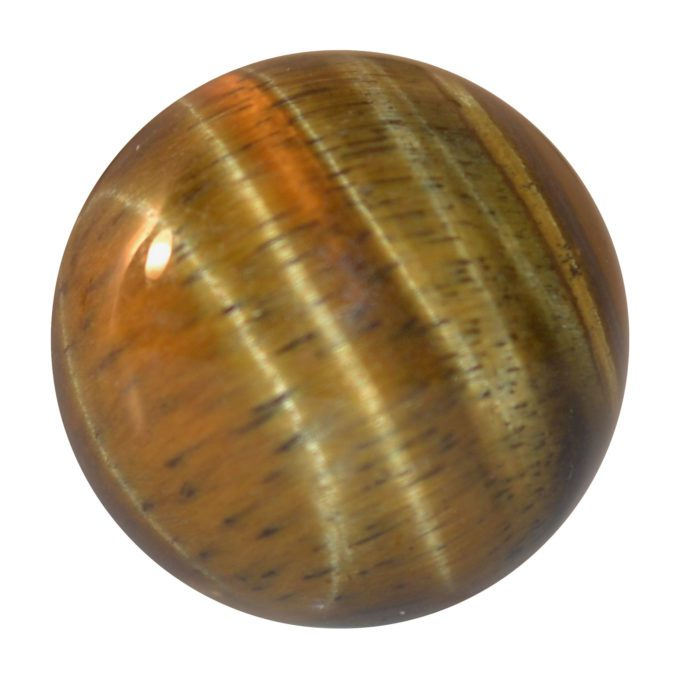Tigers_Eye: (51, 50, 632, 631)
